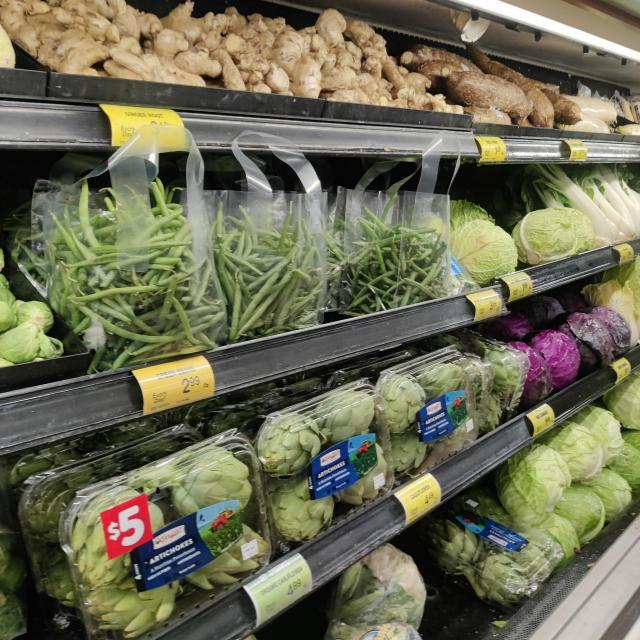Cauliflower: (326, 545, 426, 637)
Lettuce: (451, 221, 519, 283), (513, 213, 579, 265), (555, 209, 595, 252)
